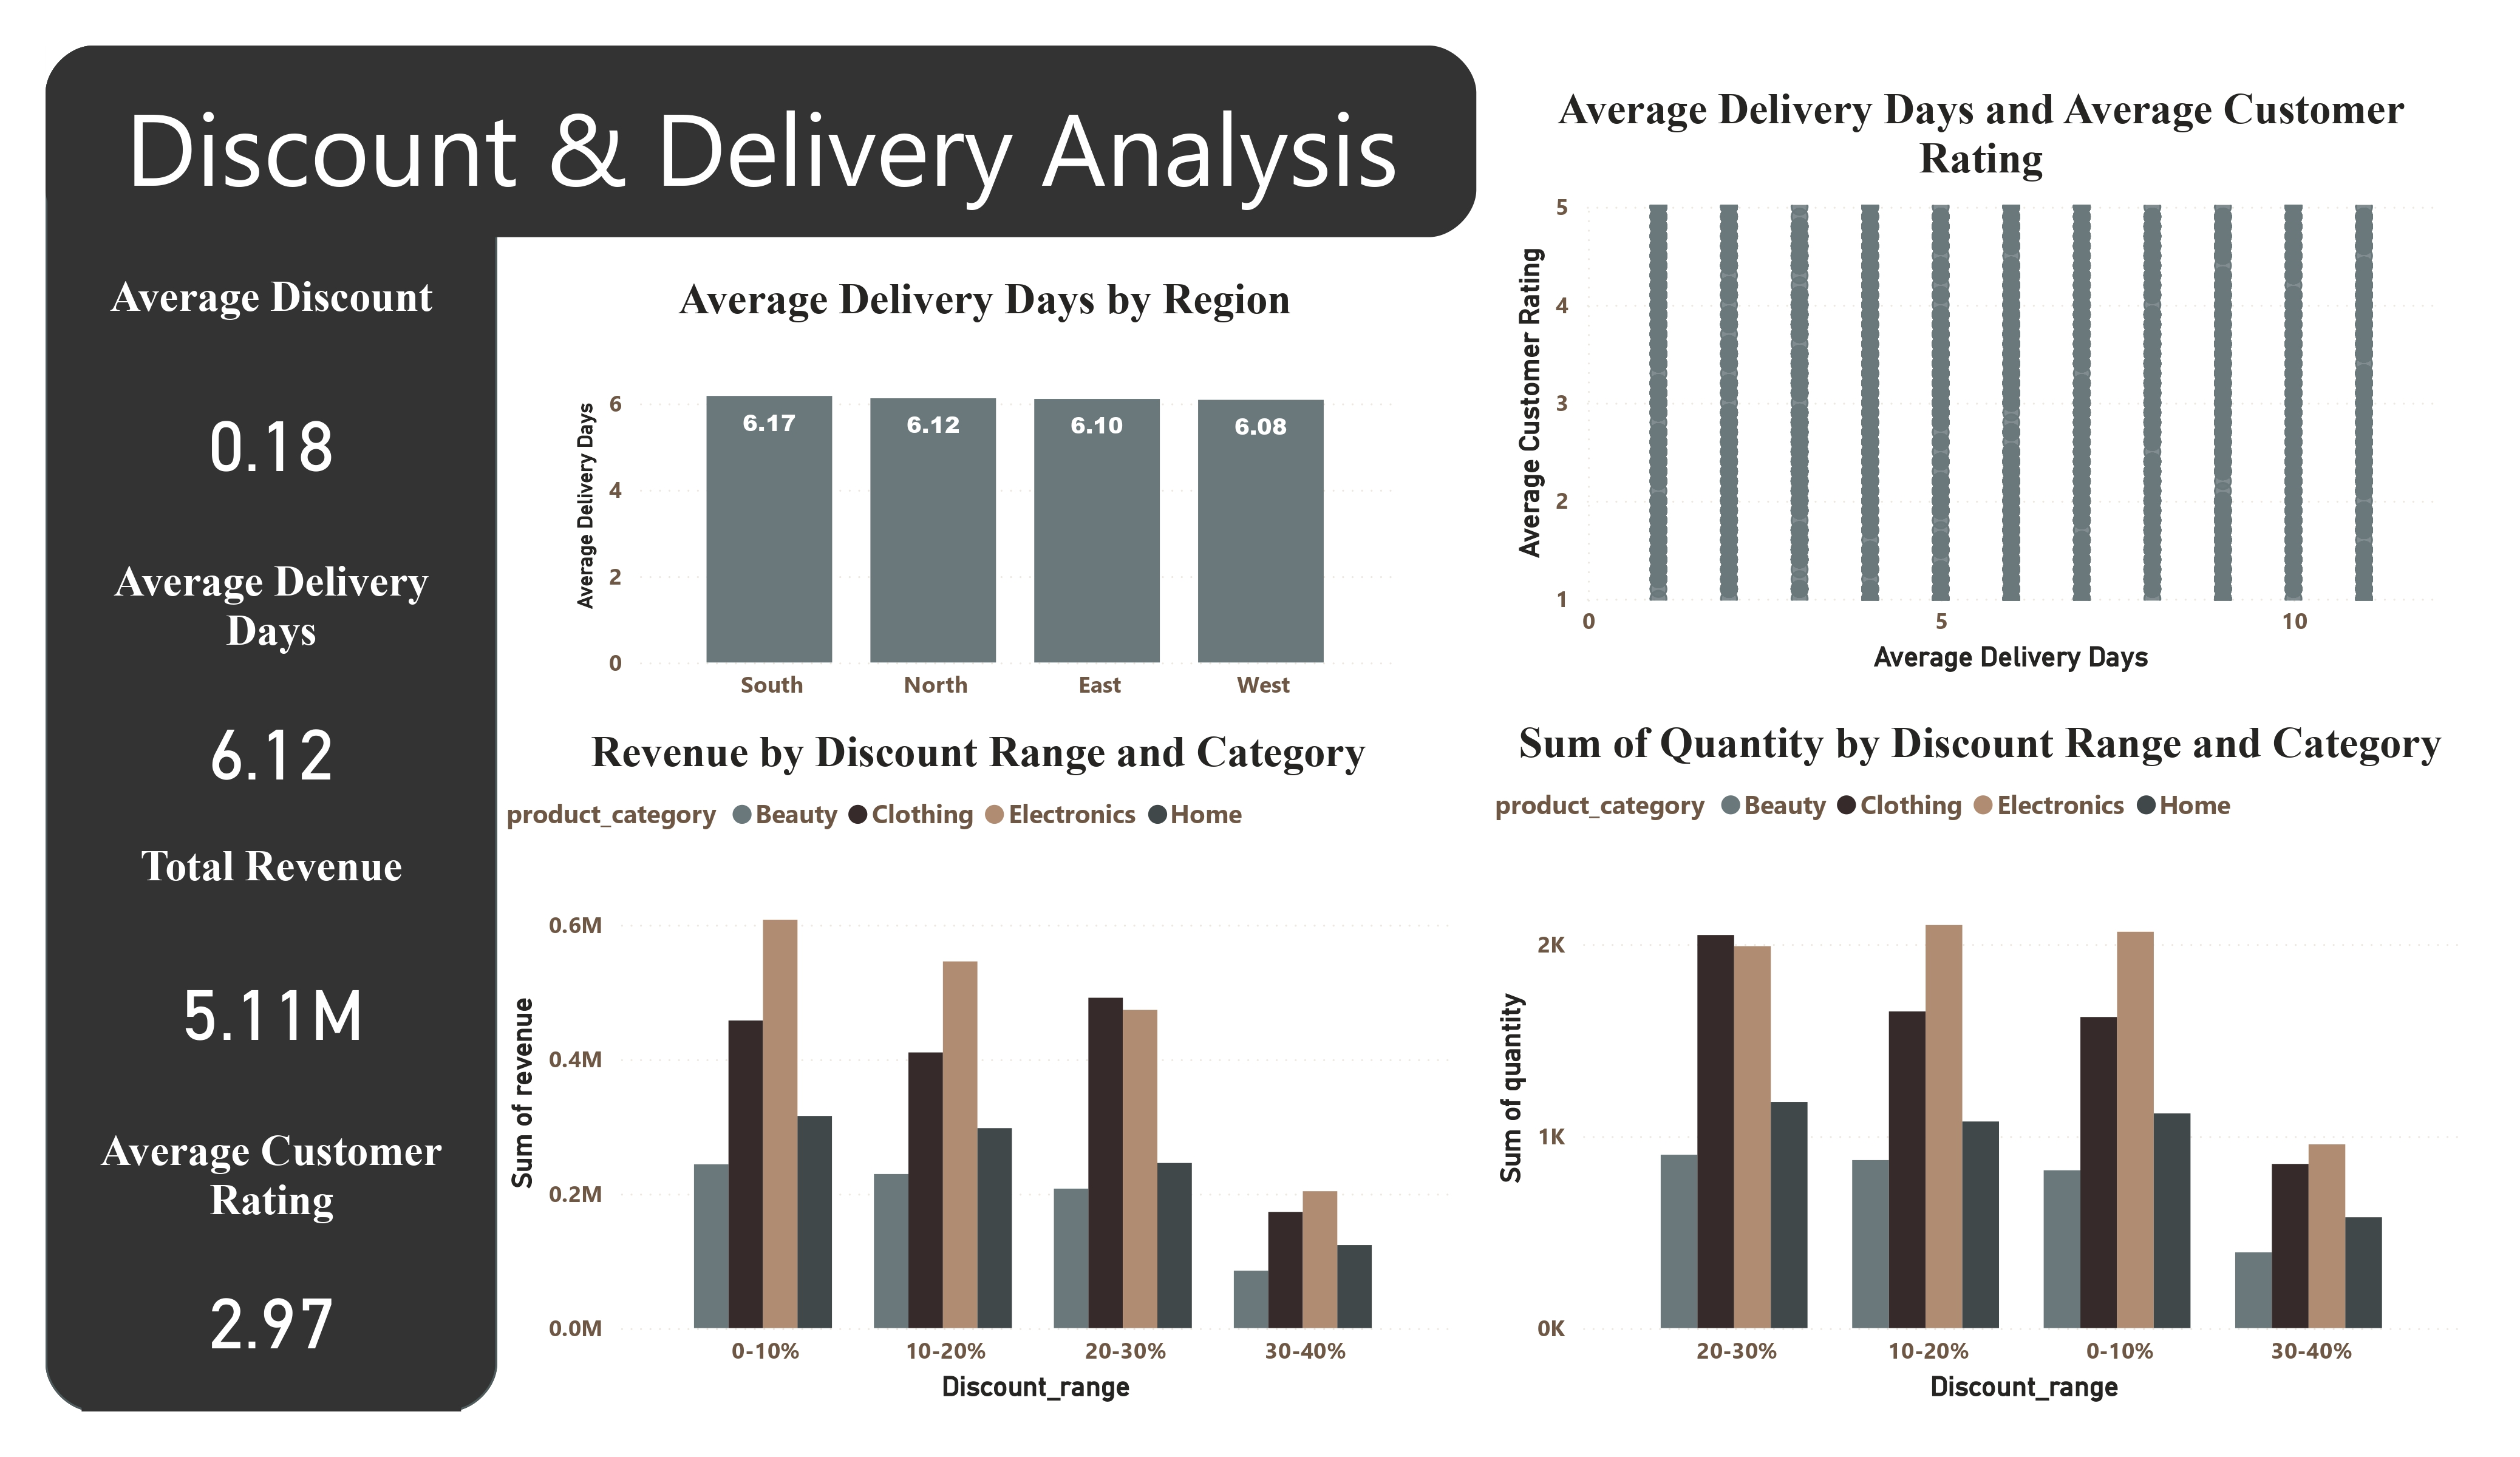

Layout of this report page (visuals, bound fields, positions):
{"tool":"powerbi","page":{"name":"Discount & Delivery Analysis","canvas":[1280,720],"ordinal":3},"visuals":[{"type":"clusteredColumnChart","title":"Revenue by Discount Range and Category","fields":{"Category":["ecommerce_sales_analytics_5000.Discount_range"],"Y":["Sum(ecommerce_sales_analytics_5000.revenue)"],"Series":["ecommerce_sales_analytics_5000.product_category"]},"box":[237.5,360,507.5,360],"z":0},{"type":"clusteredColumnChart","title":"Sum of Quantity by Discount Range and Category","fields":{"Category":["ecommerce_sales_analytics_5000.Discount_range"],"Y":["Sum(ecommerce_sales_analytics_5000.quantity)"],"Series":["ecommerce_sales_analytics_5000.product_category"]},"box":[758.8,355,521.2,365],"z":1000},{"type":"shape","box":[0,0,237.5,720],"z":1500},{"type":"columnChart","title":"Average Delivery Days by Region","fields":{"Category":["ecommerce_sales_analytics_5000.region"],"Y":["Avg(ecommerce_sales_analytics_5000.delivery_days)"]},"box":[273.8,121.2,442.5,233.8],"z":2000},{"type":"scatterChart","title":"Average Delivery Days and Average Customer Rating","fields":{"X":["Avg(ecommerce_sales_analytics_5000.delivery_days)"],"Y":["Avg(ecommerce_sales_analytics_5000.customer_rating)"],"Category":["ecommerce_sales_analytics_5000.order_id"]},"box":[768.8,21.2,502.5,313.8],"z":3000},{"type":"card","title":"Average Customer Rating","fields":{"Values":["Avg(ecommerce_sales_analytics_5000.customer_rating)"]},"box":[18.8,570,200,150],"z":4000},{"type":"card","title":"Average Delivery Days","fields":{"Values":["Avg(ecommerce_sales_analytics_5000.delivery_days)"]},"box":[18.8,270,200,150],"z":5000},{"type":"card","title":"Average Discount","fields":{"Values":["Avg(ecommerce_sales_analytics_5000.discount)"]},"box":[18.8,120,200,150],"z":6000},{"type":"card","title":"Total Revenue","fields":{"Values":["Sum(ecommerce_sales_analytics_5000.revenue)"]},"box":[18.8,420,200,150],"z":7000},{"type":"shape","box":[0,0,753.8,101.2],"z":8000},{"type":"textbox","box":[10,11.2,735,81.2],"z":9000}]}

Visuals, with their boxes on the page's 1280x720 design canvas (x1, y1, x2, y2). These are canvas units, not pixel positions in the 2520x1457 screenshot, which may show the page scaled, cropped or inside an application window:
"Revenue by Discount Range and Category" clusteredColumnChart: <region>238, 360, 745, 720</region>
"Sum of Quantity by Discount Range and Category" clusteredColumnChart: <region>759, 355, 1280, 720</region>
shape: <region>0, 0, 238, 720</region>
"Average Delivery Days by Region" columnChart: <region>274, 121, 716, 355</region>
"Average Delivery Days and Average Customer Rating" scatterChart: <region>769, 21, 1271, 335</region>
"Average Customer Rating" card: <region>19, 570, 219, 720</region>
"Average Delivery Days" card: <region>19, 270, 219, 420</region>
"Average Discount" card: <region>19, 120, 219, 270</region>
"Total Revenue" card: <region>19, 420, 219, 570</region>
shape: <region>0, 0, 754, 101</region>
textbox: <region>10, 11, 745, 92</region>
